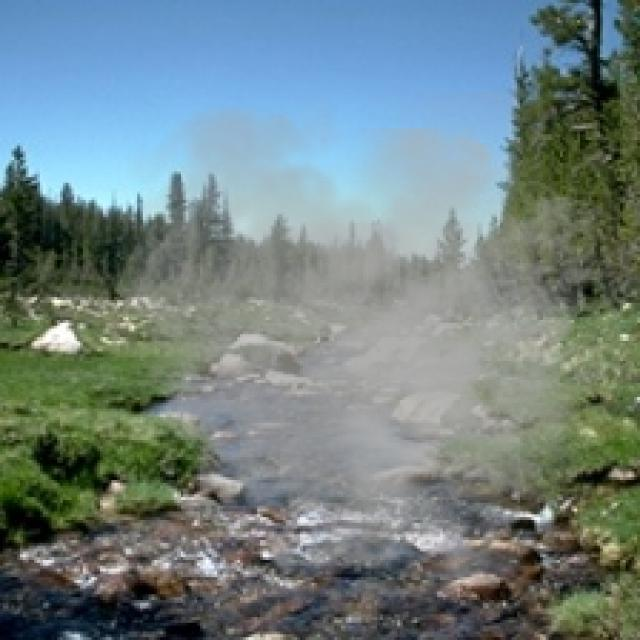Smoke: (94, 91, 637, 614)
